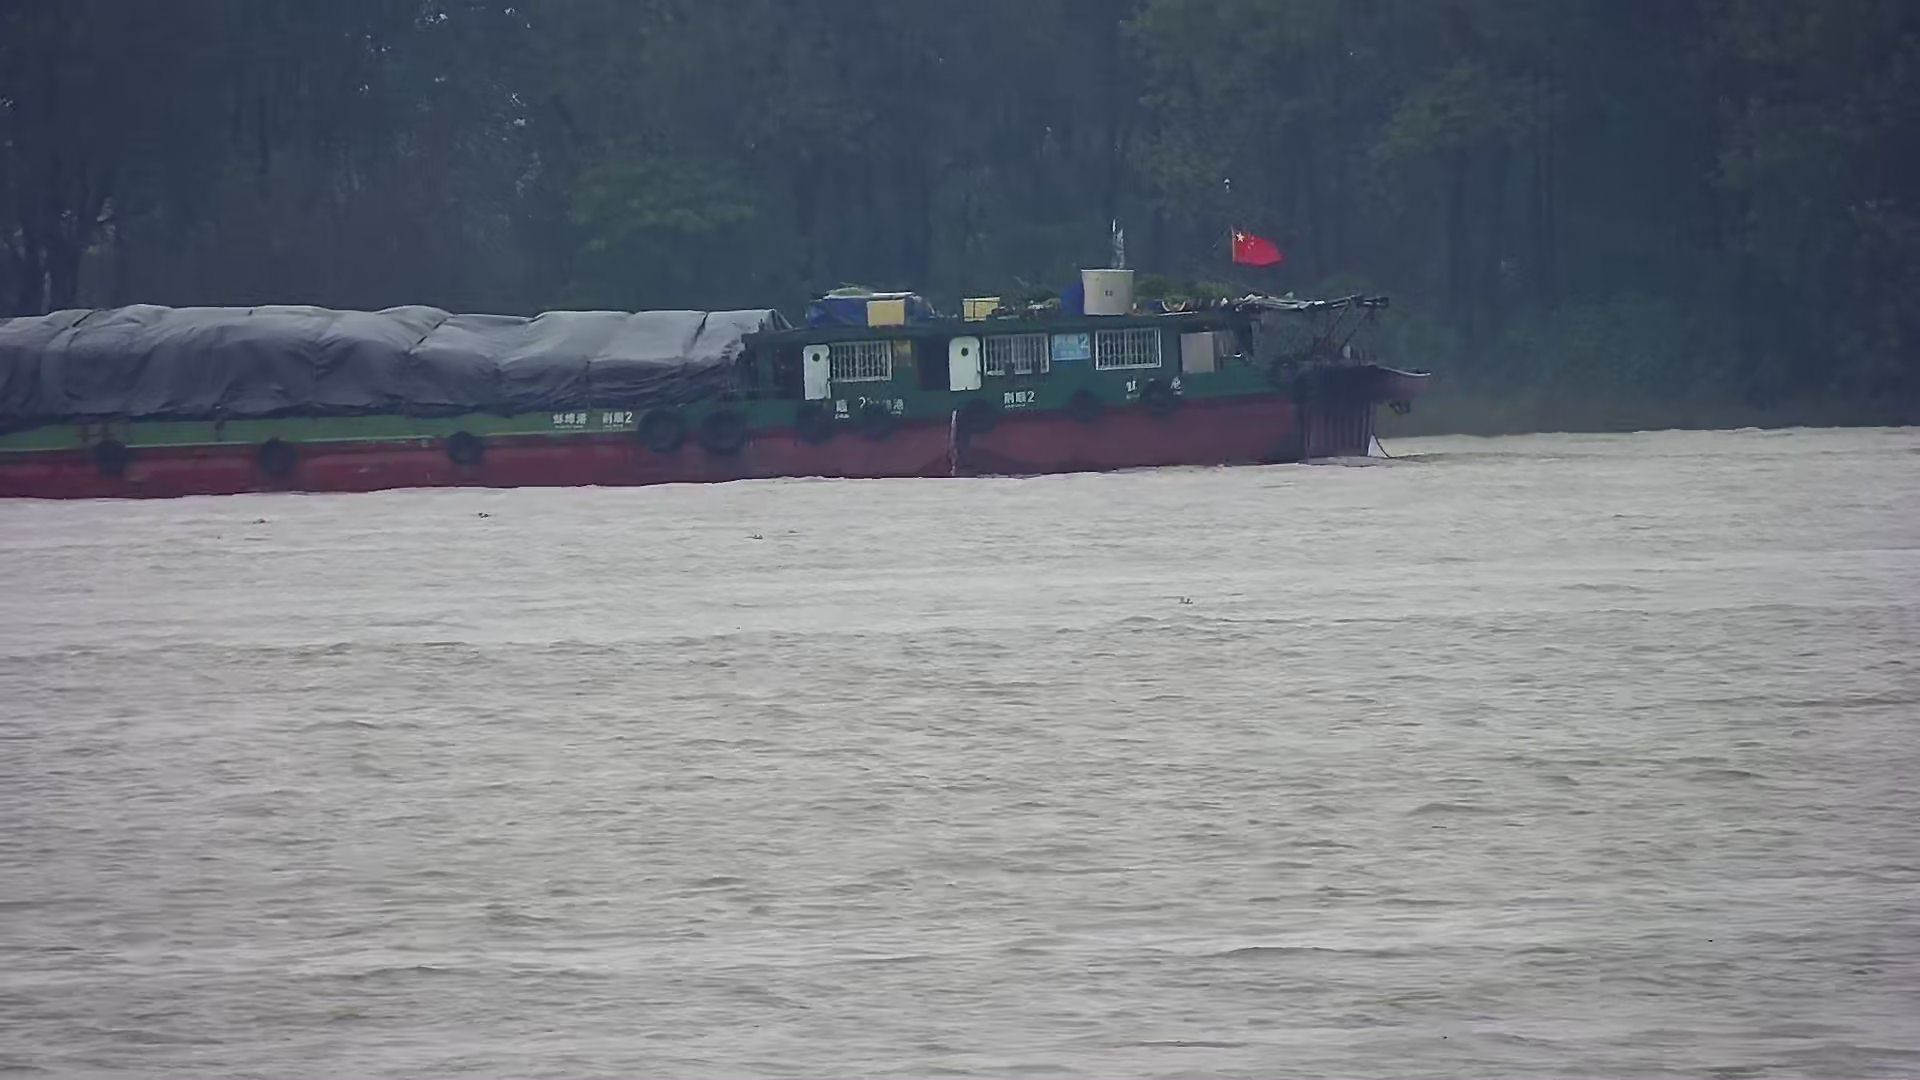ship: (8, 218, 1437, 491)
